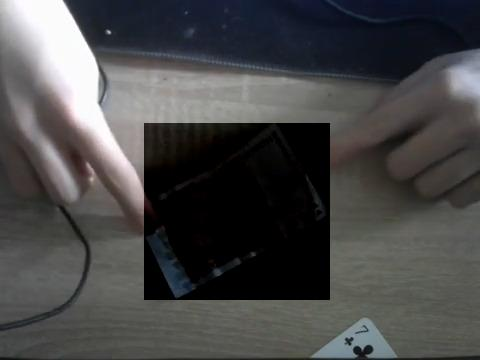5leva: (144, 123, 330, 300)
